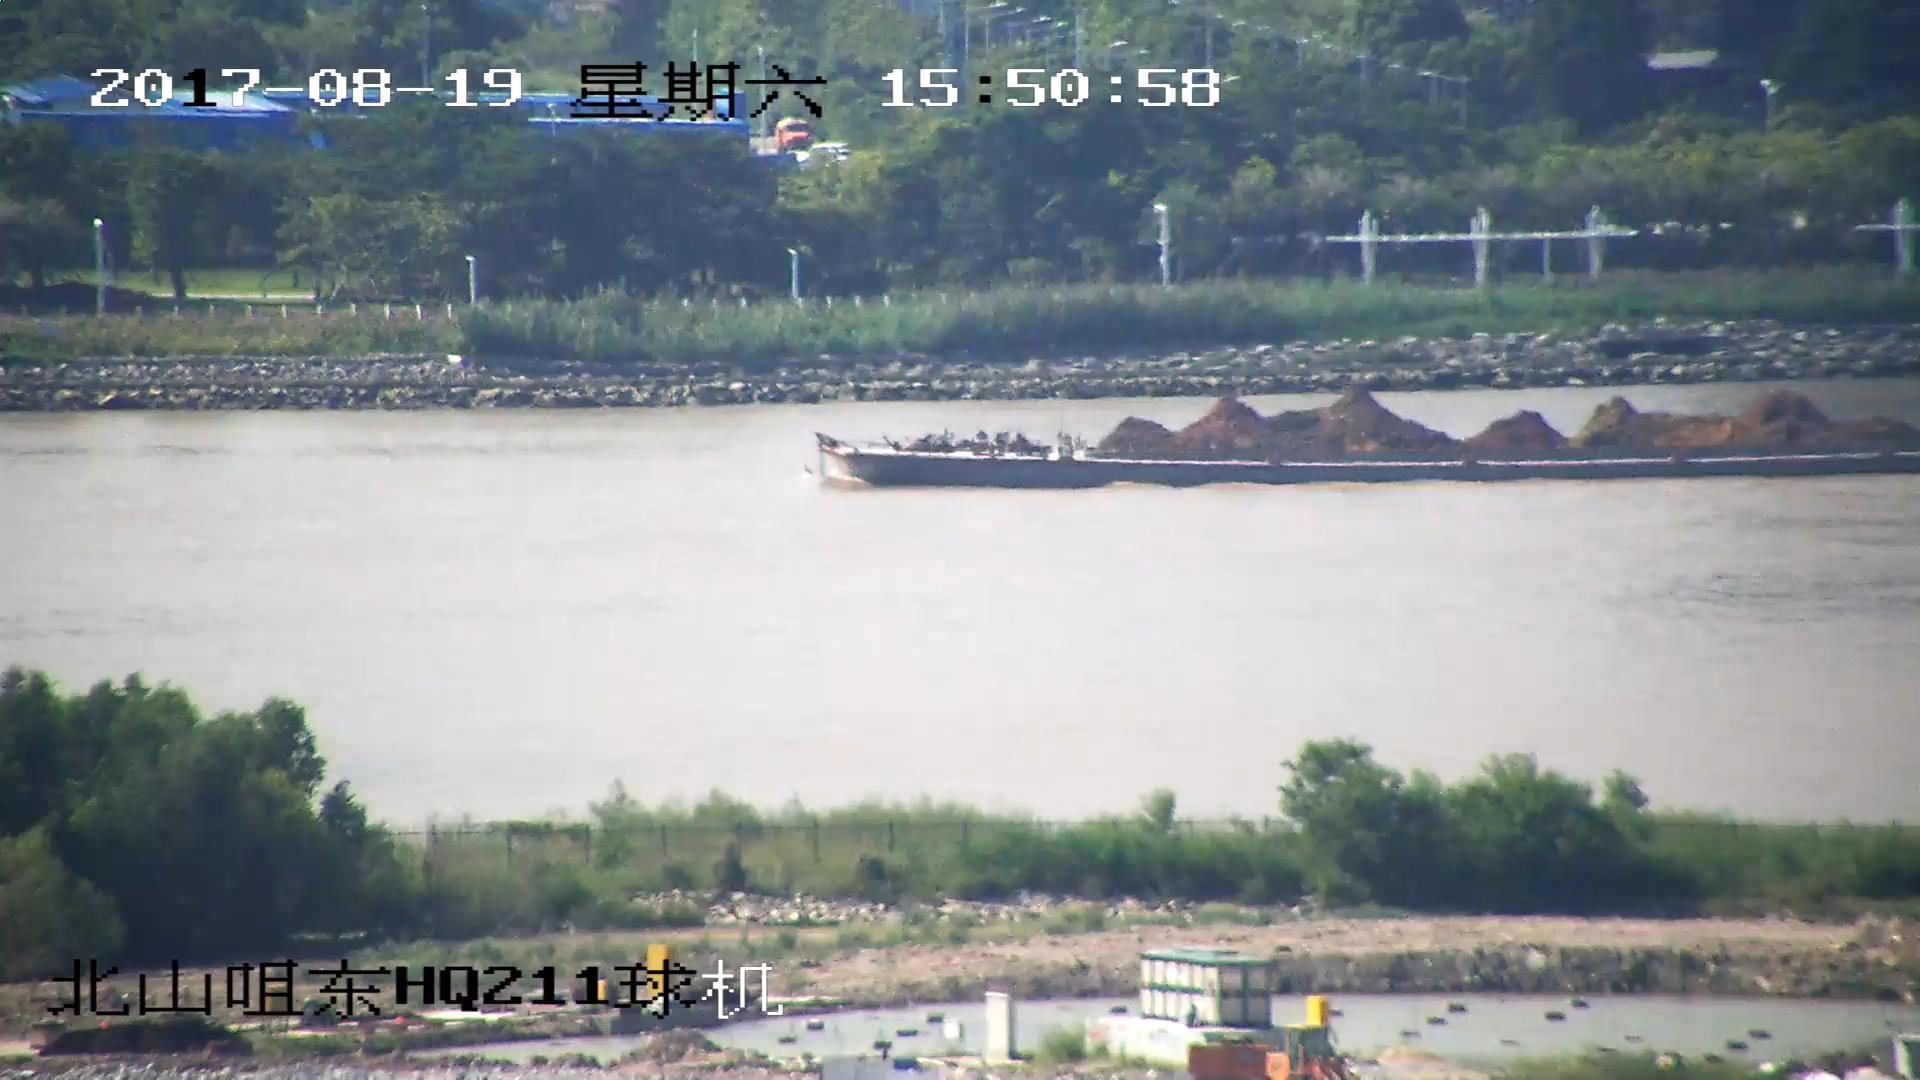ore carrier: (817, 380, 1920, 498)
